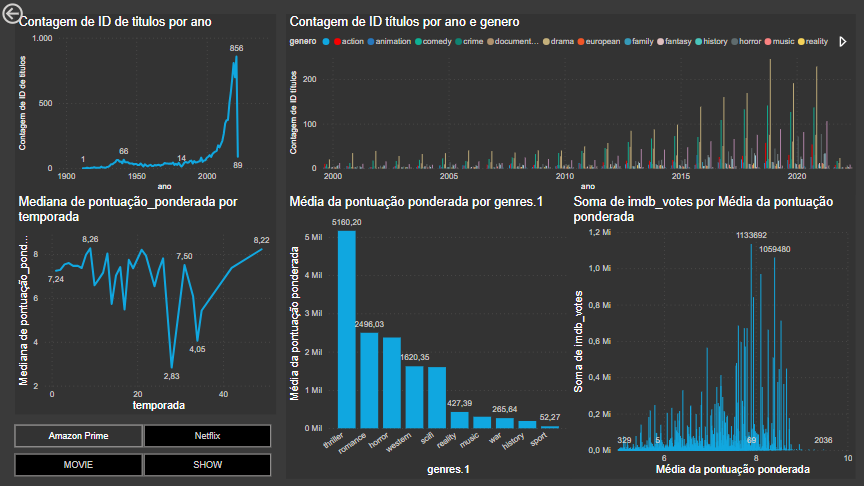

The page's visual inventory and layout, read from the dashboard file:
{"tool":"powerbi","page":{"name":"Página 2","canvas":[1280,720],"ordinal":1},"visuals":[{"type":"lineChart","fields":{"Category":["amazon_netflix_limpo.release_year"],"Y":["CountNonNull(amazon_netflix_limpo.ID)"]},"box":[24,20,384,266],"z":0},{"type":"actionButton","box":[0,0,100,40],"z":1000},{"type":"clusteredColumnChart","fields":{"Category":["amazon_netflix_limpo.release_year"],"Y":["CountNonNull(amazon_netflix_limpo.ID)"],"Series":["amazon_netflix_limpo.genres.1"]},"box":[422,20,838,266],"z":2000},{"type":"lineChart","fields":{"Category":["amazon_netflix_limpo.seasons"],"Y":["Median(amazon_netflix_limpo.pontuação_ponderada)"]},"box":[24,286,384,324],"z":3000},{"type":"columnChart","fields":{"Category":["amazon_netflix_limpo.genres.1"],"Y":["Sum(amazon_netflix_limpo.pontuação_ponderada)"]},"box":[421.4,285.7,420,418.6],"z":4000},{"type":"slicer","fields":{"Values":["amazon_netflix_limpo.streaming"]},"box":[0,620,421.4,41.4],"z":5000},{"type":"slicer","fields":{"Values":["amazon_netflix_limpo.type"]},"box":[0,662.9,421.4,41.4],"z":6000},{"type":"columnChart","fields":{"Y":["Sum(amazon_netflix_limpo.imdb_votes)"],"Category":["amazon_netflix_limpo.pontuação_ponderada"]},"box":[840,285.7,420,418.6],"z":7000}]}

Visuals, with their boxes in screenshot pixels (x1, y1, x2, y2), scaled from the page's 1280x720 canvas onto the 864x486 screenshot:
lineChart - amazon_netflix_limpo.release_year x CountNonNull(amazon_netflix_limpo.ID): (16, 14, 275, 193)
actionButton: (0, 0, 68, 27)
clusteredColumnChart - amazon_netflix_limpo.release_year x CountNonNull(amazon_netflix_limpo.ID): (285, 14, 850, 193)
lineChart - amazon_netflix_limpo.seasons x Median(amazon_netflix_limpo.pontuação_ponderada): (16, 193, 275, 412)
columnChart - amazon_netflix_limpo.genres.1 x Sum(amazon_netflix_limpo.pontuação_ponderada): (284, 193, 568, 475)
slicer - amazon_netflix_limpo.streaming: (0, 418, 284, 446)
slicer - amazon_netflix_limpo.type: (0, 447, 284, 475)
columnChart - Sum(amazon_netflix_limpo.imdb_votes) x amazon_netflix_limpo.pontuação_ponderada: (567, 193, 850, 475)
